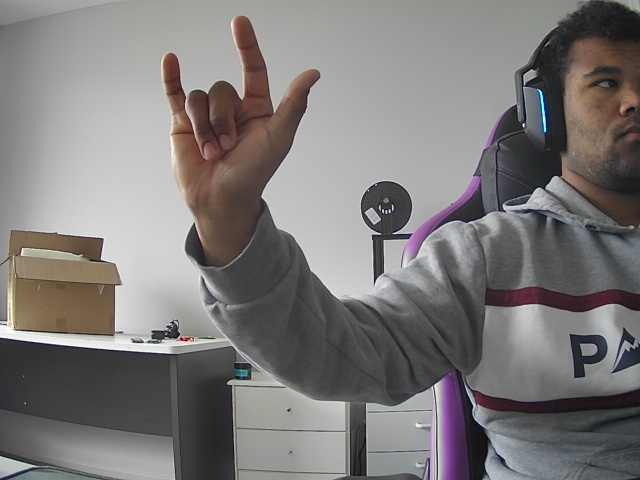ILoveYou: (139, 4, 328, 249)
